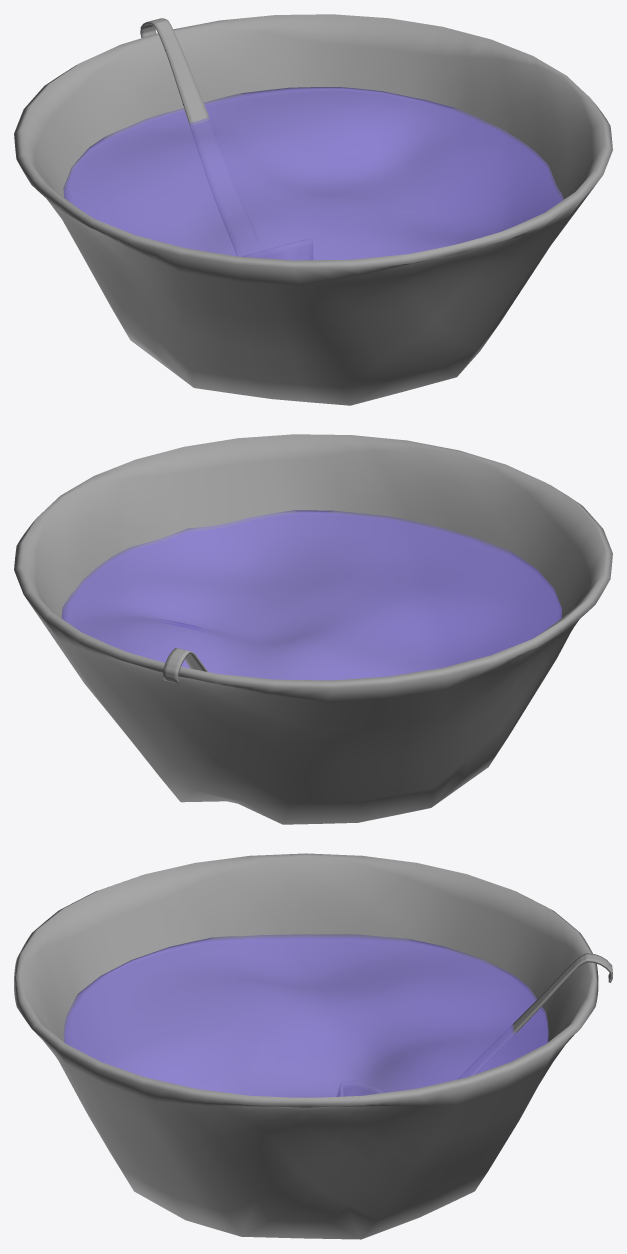
File: SyrupBowl.fbx
3 views of the same model, one above another, from view 1: azimuth 30°, elevation 25°; view 2: azimuth 150°, elevation 25°; view 3: azimuth 270°, elevation 25° (orthographic).
Parts seen in each view (by area): view 1: Syrup_Bowl; view 2: Syrup_Bowl; view 3: Syrup_Bowl.
Boxes of the visible parts, x1,y1,x2,y2 form: Syrup_Bowl: (14, 14, 612, 405); Syrup_Bowl: (14, 434, 612, 824); Syrup_Bowl: (14, 853, 612, 1239).
Size of the model in its own units: 202 by 79.52 by 207.
